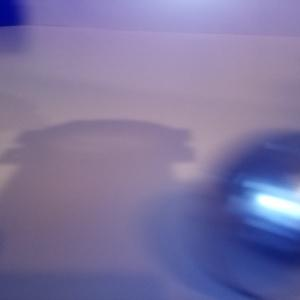alive_ball: (198, 132, 300, 300)
